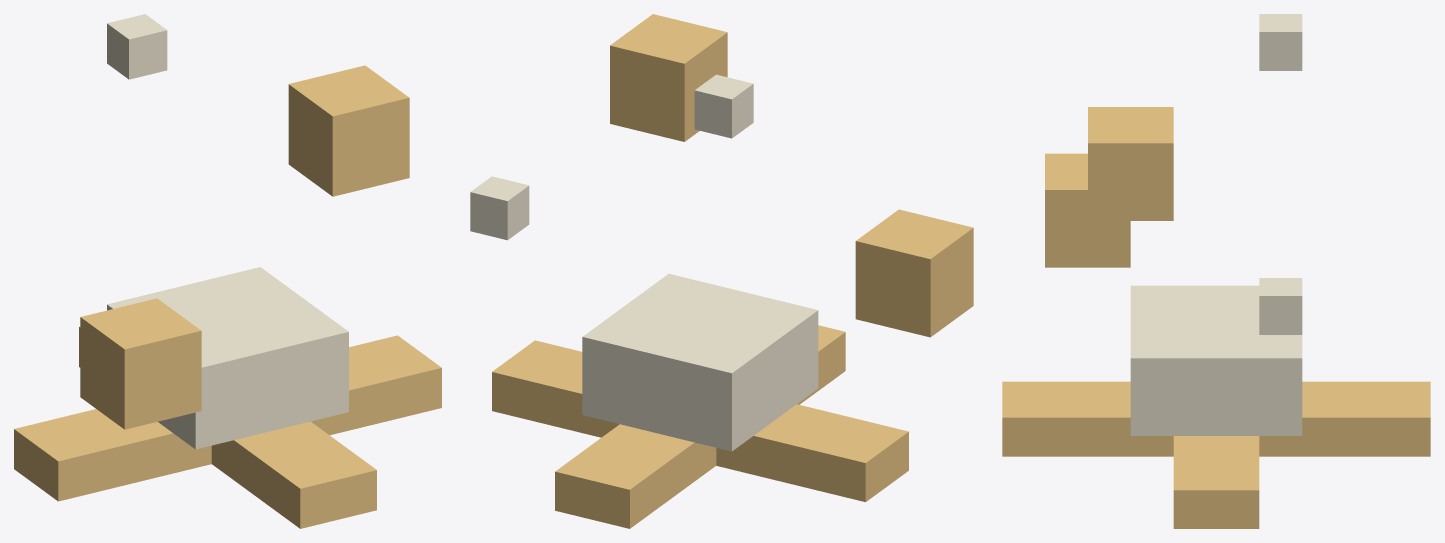
File: pocket-borough-block-impact-mesh__299.glb
3 views of the same model, side by side, from view 1: azimuth 30°, elevation 25°; view 2: azimuth 150°, elevation 25°; view 3: azimuth 270°, elevation 25° (orthographic). The views are drawn at different scales.
Visible parts, largest first — view 1: pocket-borough-block-impact; view 2: pocket-borough-block-impact; view 3: pocket-borough-block-impact.
Boxes of the visible parts, x1,y1,x2,y2 form: pocket-borough-block-impact: (14,14,441,528); pocket-borough-block-impact: (470,14,973,528); pocket-borough-block-impact: (1002,14,1430,528).
Size of the model in its own units: 1.25 by 1.25 by 1.25.
